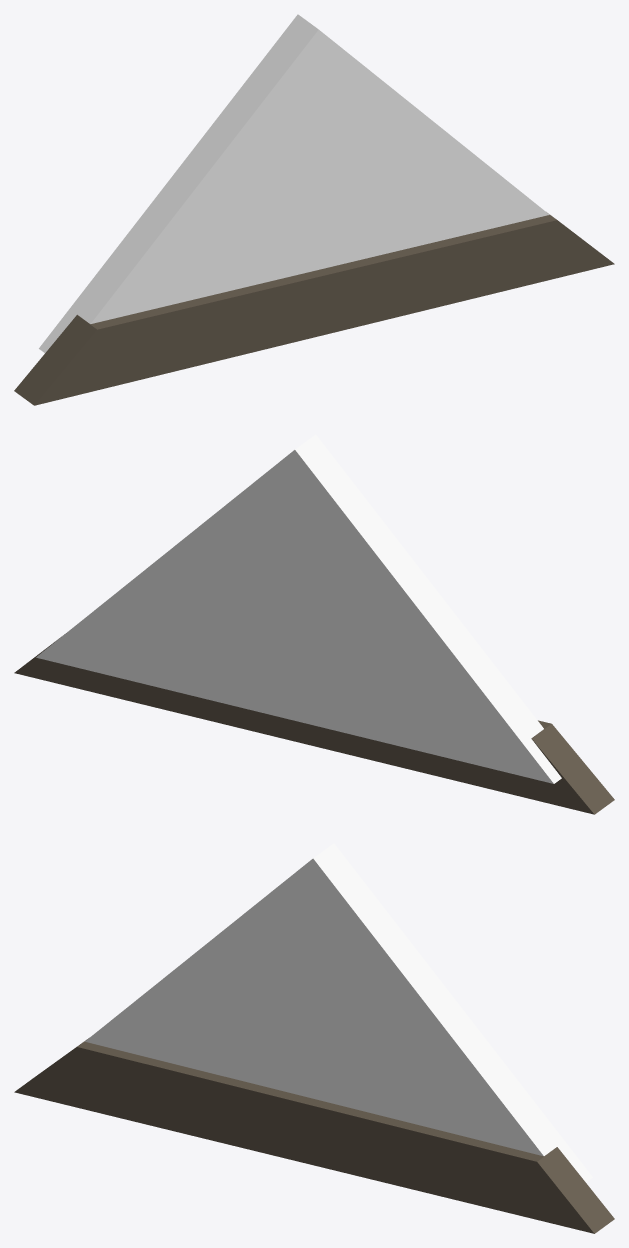
Rendered from ROOF_triangles_up_wood_1.glb.
3 views of the same model, one above another, from view 1: azimuth 30°, elevation 25°; view 2: azimuth 150°, elevation 25°; view 3: azimuth 330°, elevation 25° (orthographic).
Parts seen in each view (by area): view 1: ROOF_triangles_up_wood_1; view 2: ROOF_triangles_up_wood_1; view 3: ROOF_triangles_up_wood_1.
Part boxes in pixels (x1,y1,x2,y2): ROOF_triangles_up_wood_1: (14, 14, 614, 405); ROOF_triangles_up_wood_1: (14, 434, 614, 814); ROOF_triangles_up_wood_1: (14, 843, 614, 1233).
Bounding box in the file's own units: 1.12 × 0.5526 × 0.0944.
1 material, 1 textured.
